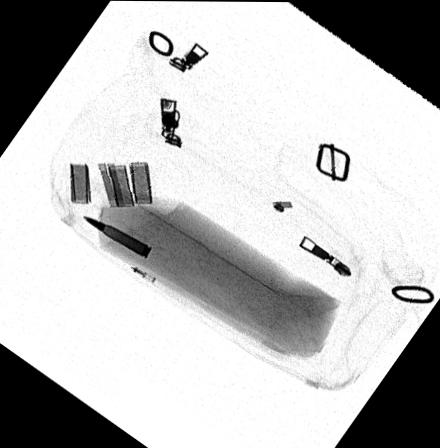Bullet: (79, 214, 153, 258)
